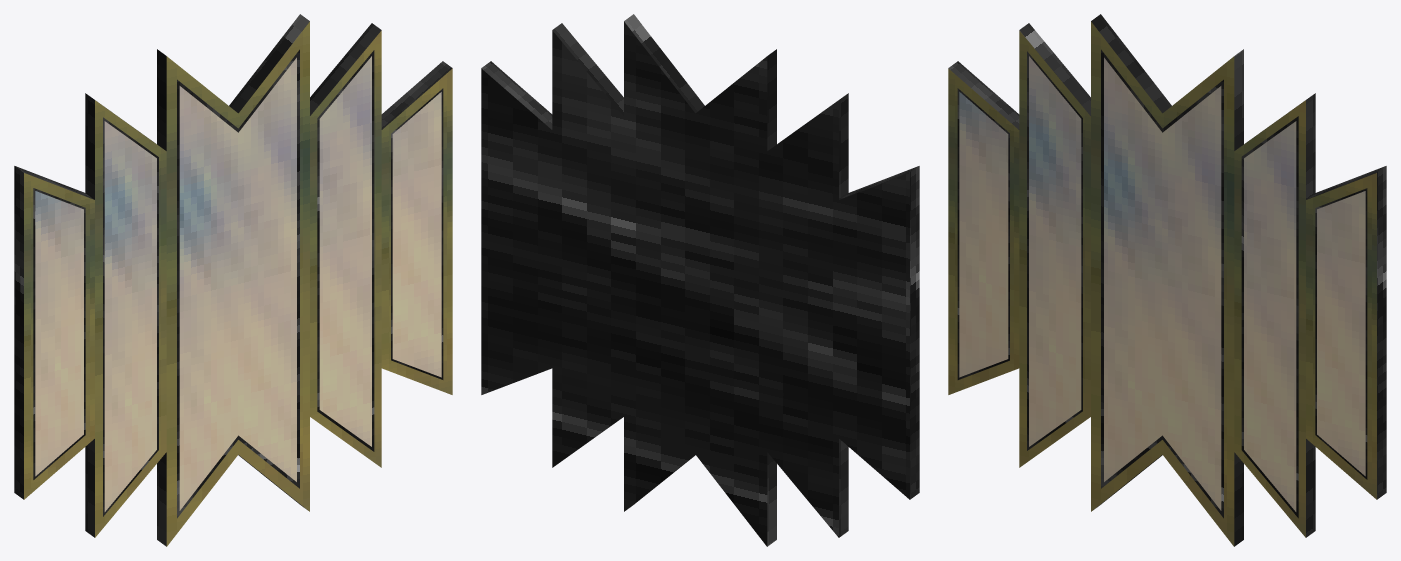
The model's file is Cabinet 1.glb.
The picture shows the model from 3 angles, left to right: view 1: azimuth 30°, elevation 25°; view 2: azimuth 150°, elevation 25°; view 3: azimuth 330°, elevation 25°; orthographic projection.
Parts seen in each view (by area): view 1: Cube; view 2: Cube; view 3: Cube.
Boxes of the visible parts, x1,y1,x2,y2 form: Cube: (14,14,452,546); Cube: (481,14,919,546); Cube: (948,14,1386,546).
Bounding box in the file's own units: 2.63 × 2.88 × 0.1049.
1 material, 1 textured.
